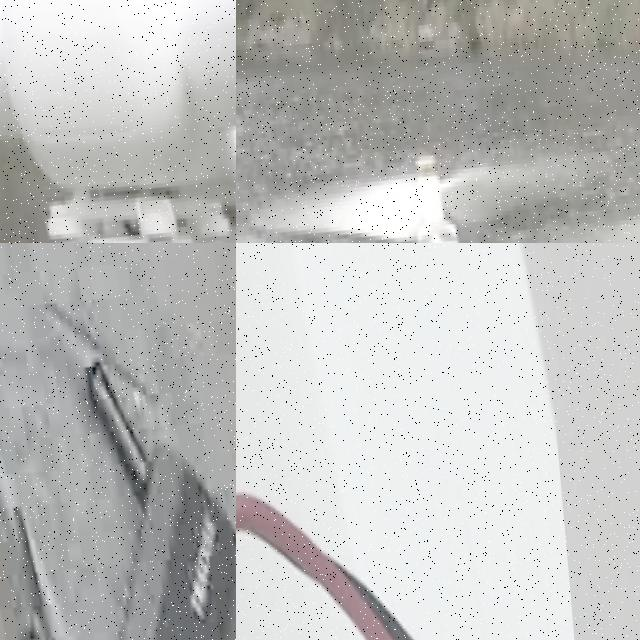drone: (236, 243, 587, 640), (0, 243, 236, 640), (236, 57, 640, 243), (0, 0, 236, 243)
